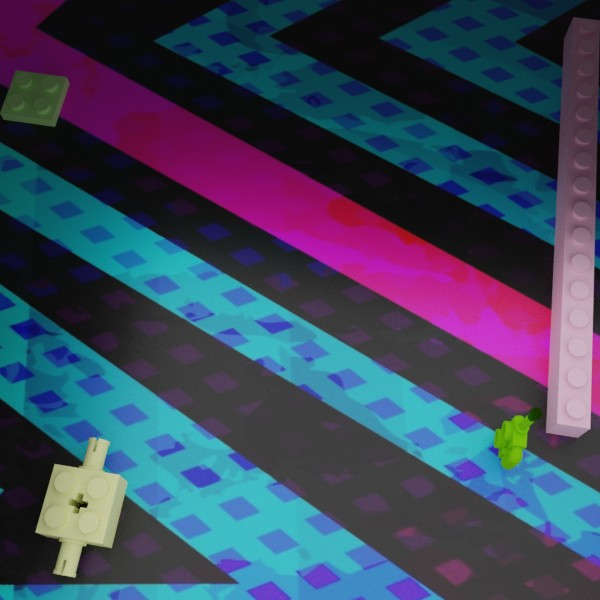lego: (545, 17, 600, 437), (35, 437, 127, 577), (0, 70, 69, 126), (493, 407, 542, 469)
